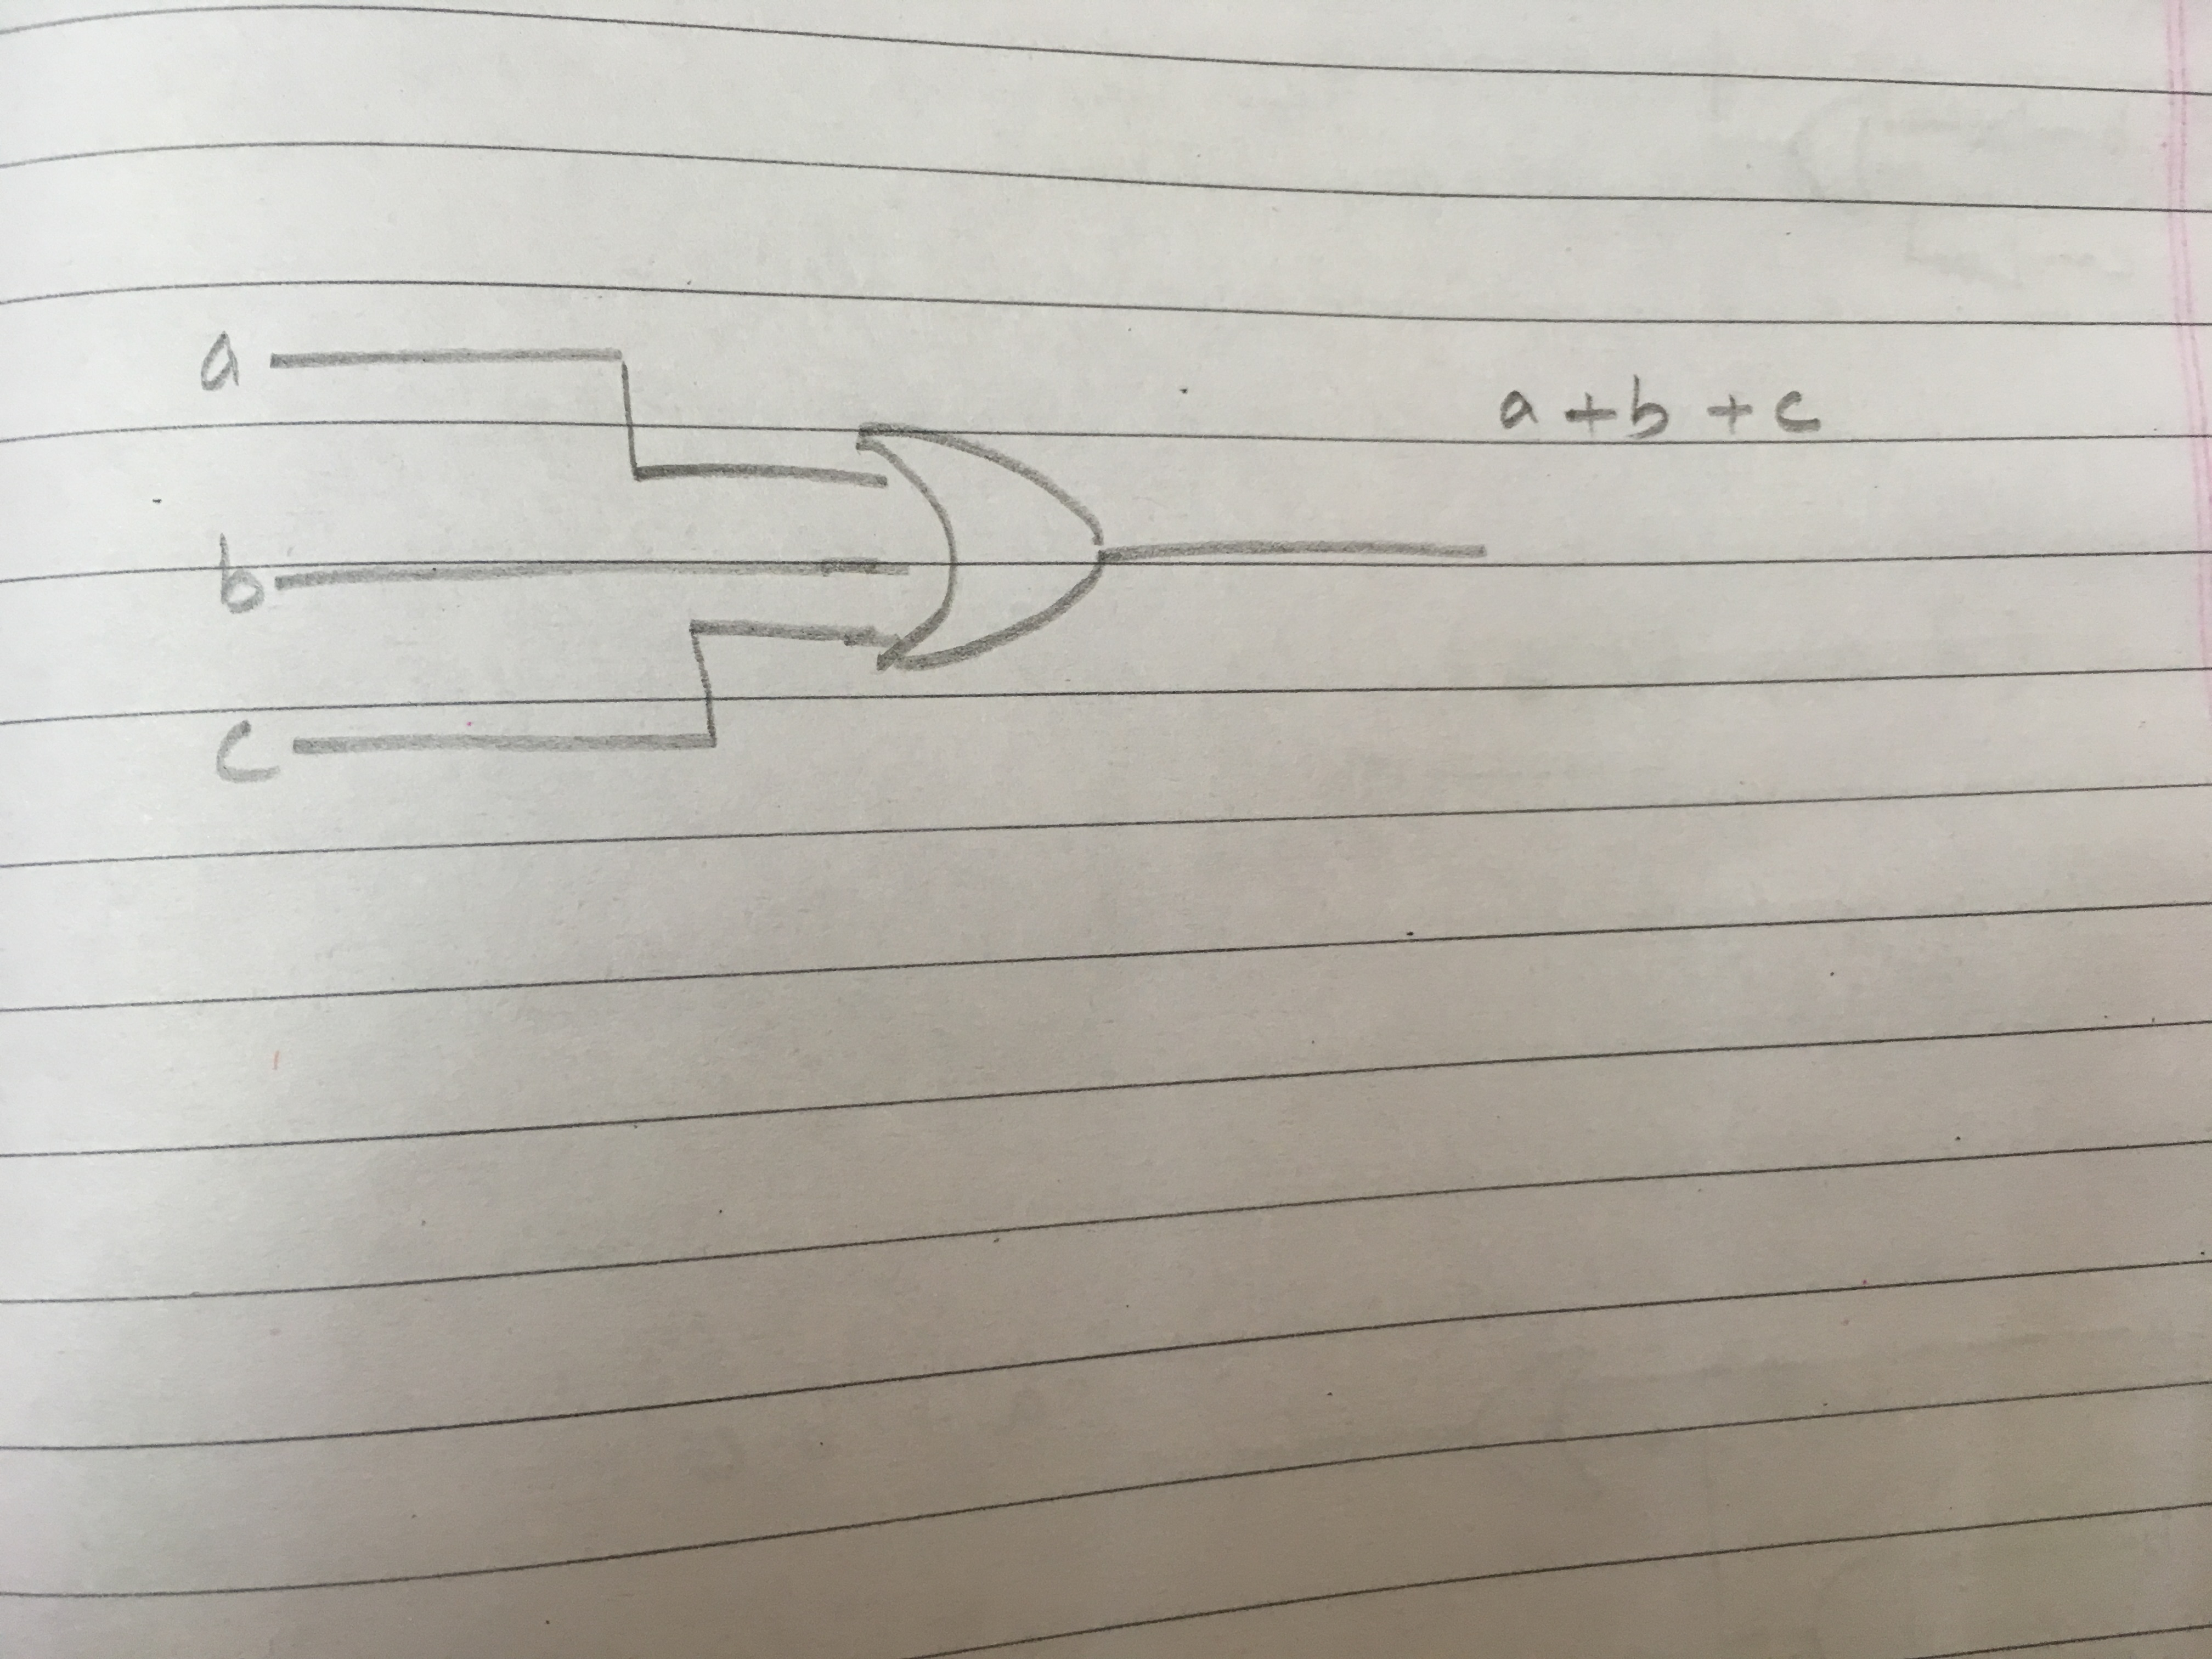or: (806, 385, 1136, 709)
